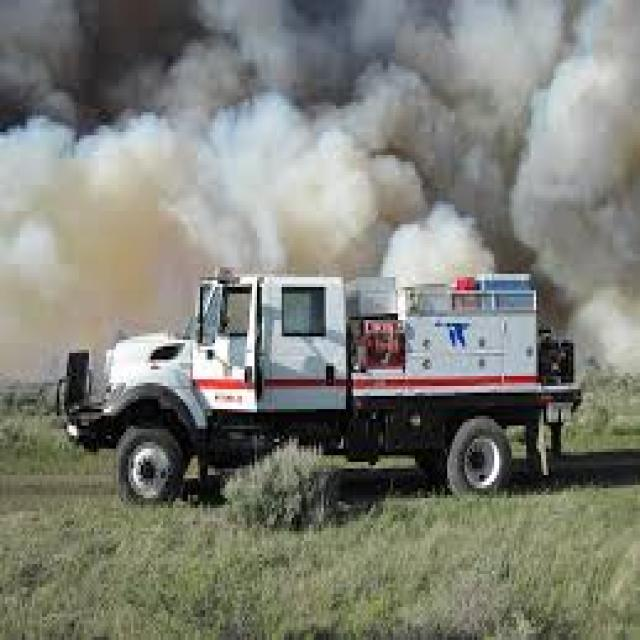smoke: (207, 3, 640, 265), (3, 116, 186, 322)
